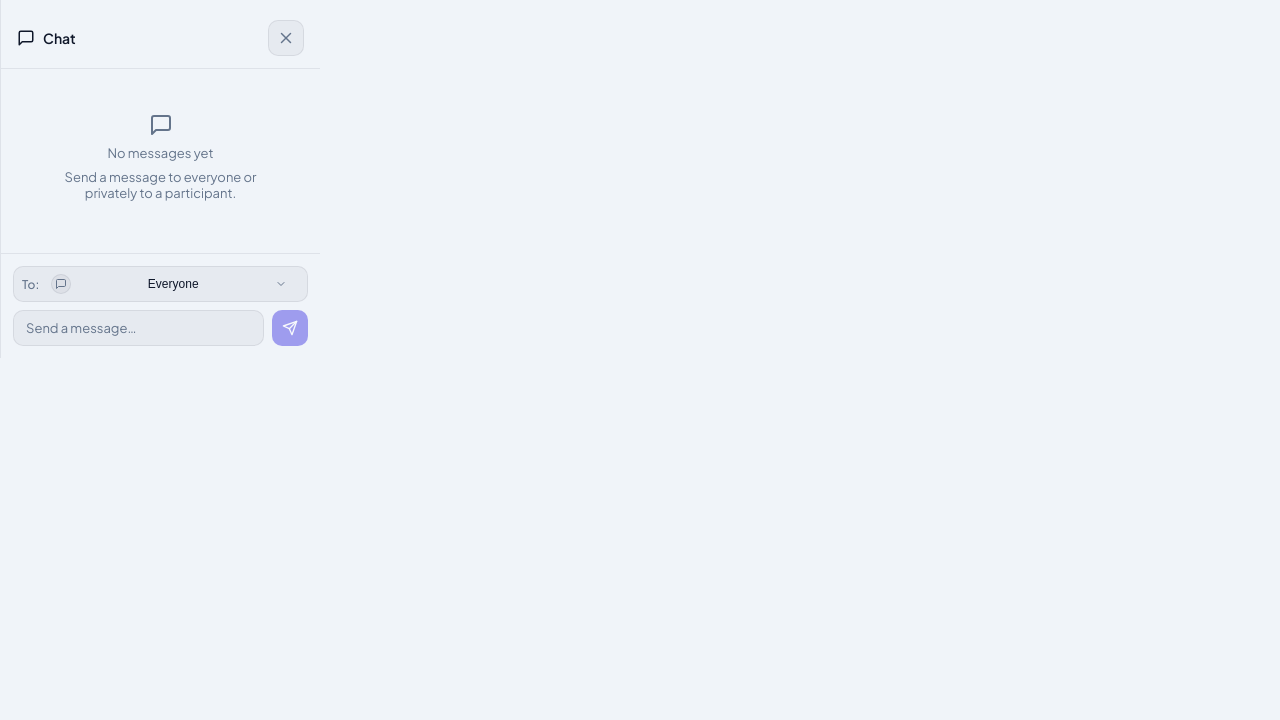
Test: ChatPanel › recipient dropdown › closes dropdown when clicking outside
Click the button with aria-label "Select message recipient" at (173, 284), box [47,272,299,296]
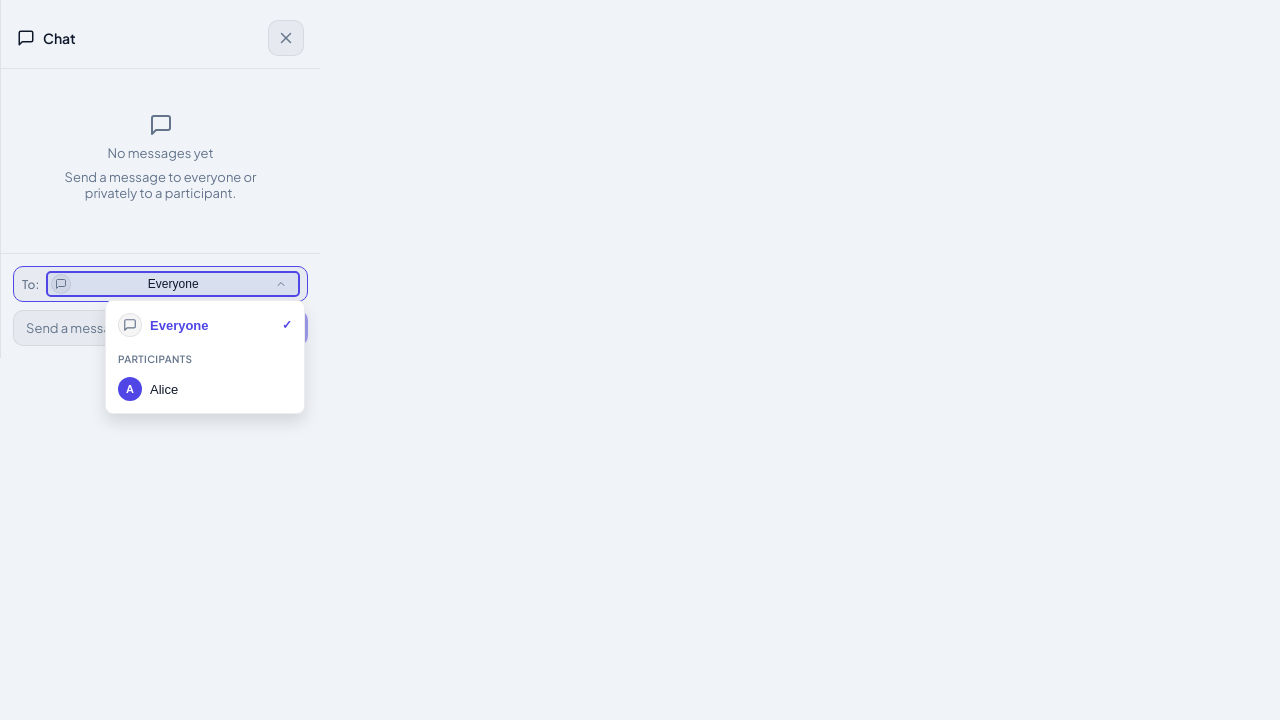
Now the list is shown, box [105,300,305,414]
Click the element named "Chat" at (637, 360), box [0,0,1274,719]
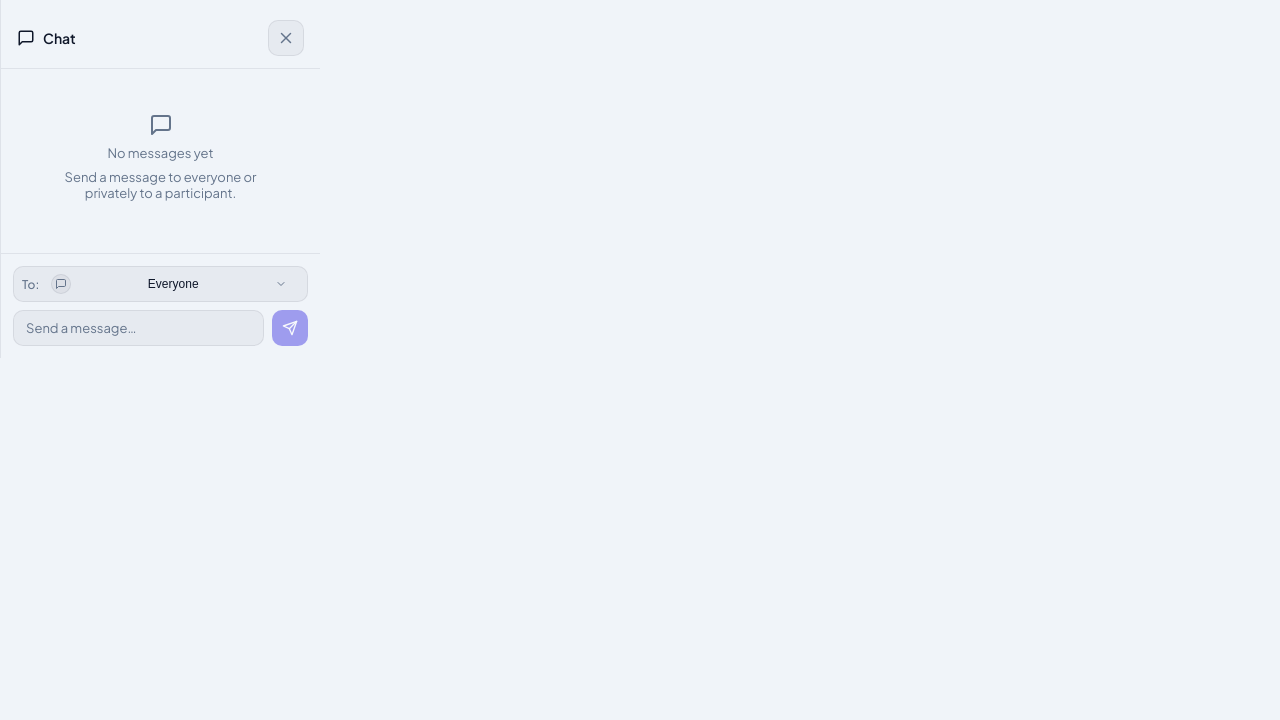
Now the list is gone
